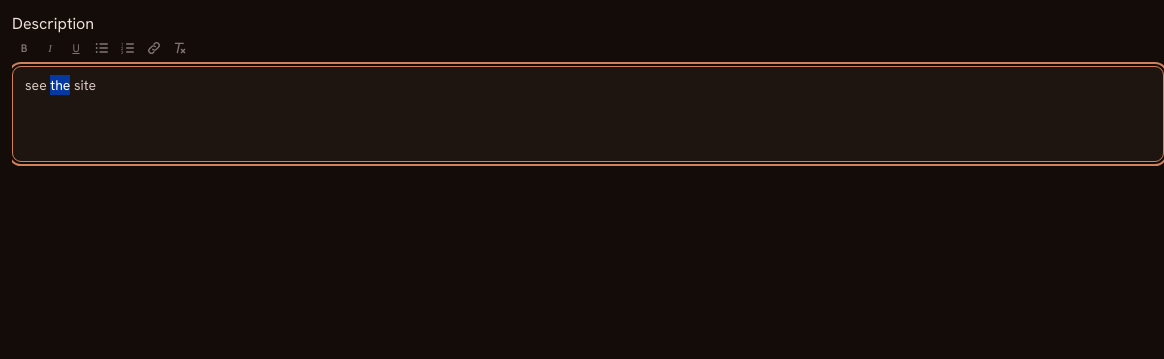
DescriptionEditor's link panel › closing_the_panel_by_Cancel_puts_the_caret_back
The width and height of the screenshot is (1164, 359).
Click the button named "Link": click(154, 48) [142,36,166,60]
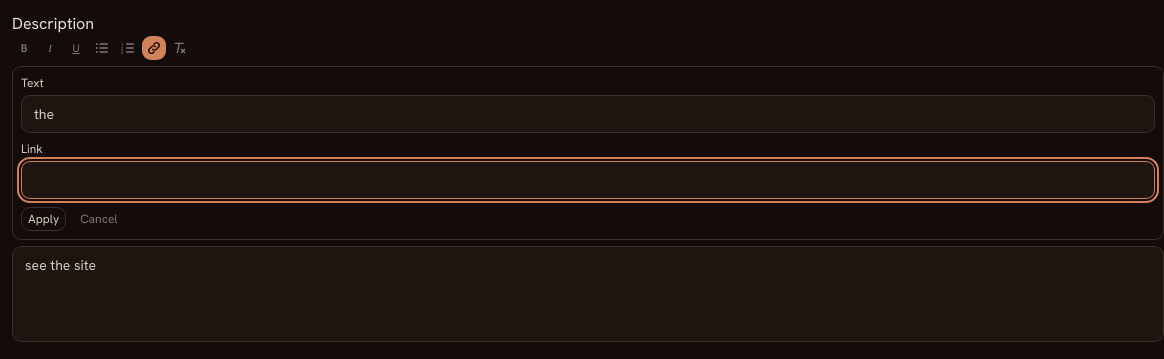
Click the button "Cancel": click(99, 219) [74,207,124,231]
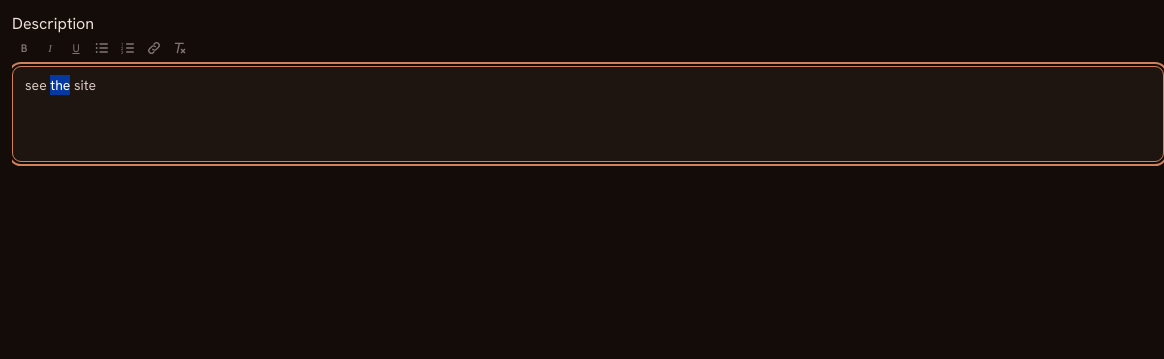
Check: the label "Link" is gone
